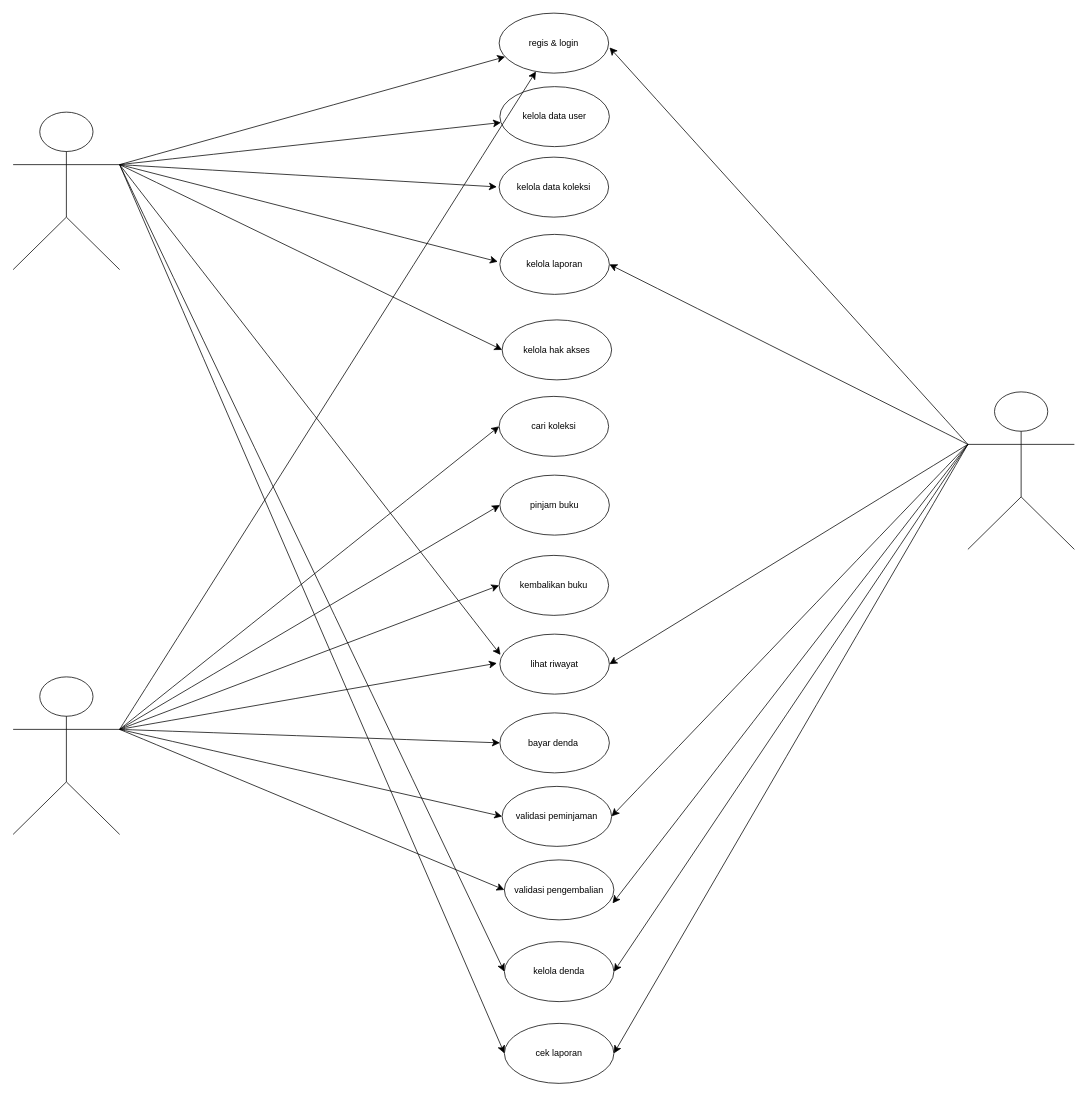
Image size: 1088x1097. Some labels were removed from this diagram. The centre of each missing label's shape, as x and y in pixels:
admin: point (66, 190)
petugas: point (1020, 470)
user: point (66, 755)
